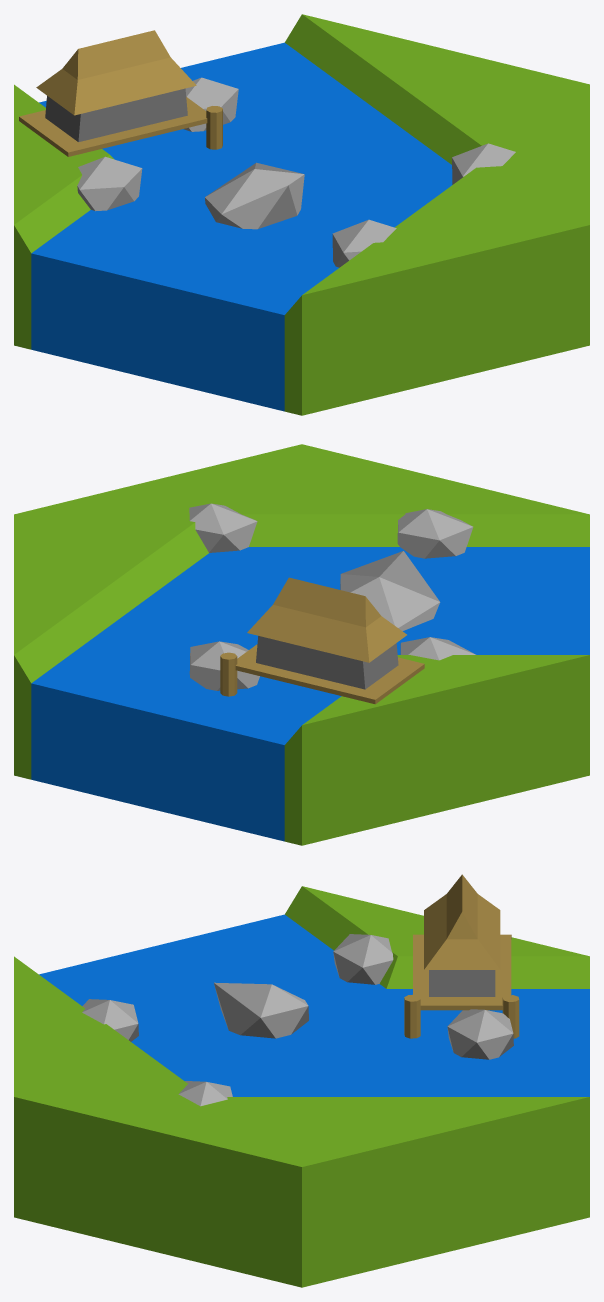
Rendered from Casas_Rio_Curva_1.fbx.
The picture shows the model from 3 angles, top to bottom: view 1: azimuth 30°, elevation 25°; view 2: azimuth 150°, elevation 25°; view 3: azimuth 270°, elevation 25°; orthographic projection.
Parts seen in each view (by area): view 1: Casas_Rio_Curva_1; view 2: Casas_Rio_Curva_1; view 3: Casas_Rio_Curva_1.
Part boxes in pixels (box(x1,y1,x2,y2)): Casas_Rio_Curva_1: box(14, 14, 589, 415); Casas_Rio_Curva_1: box(14, 444, 589, 845); Casas_Rio_Curva_1: box(14, 874, 589, 1287).
Bounding box in the file's own units: 200 × 67.29 × 173.
